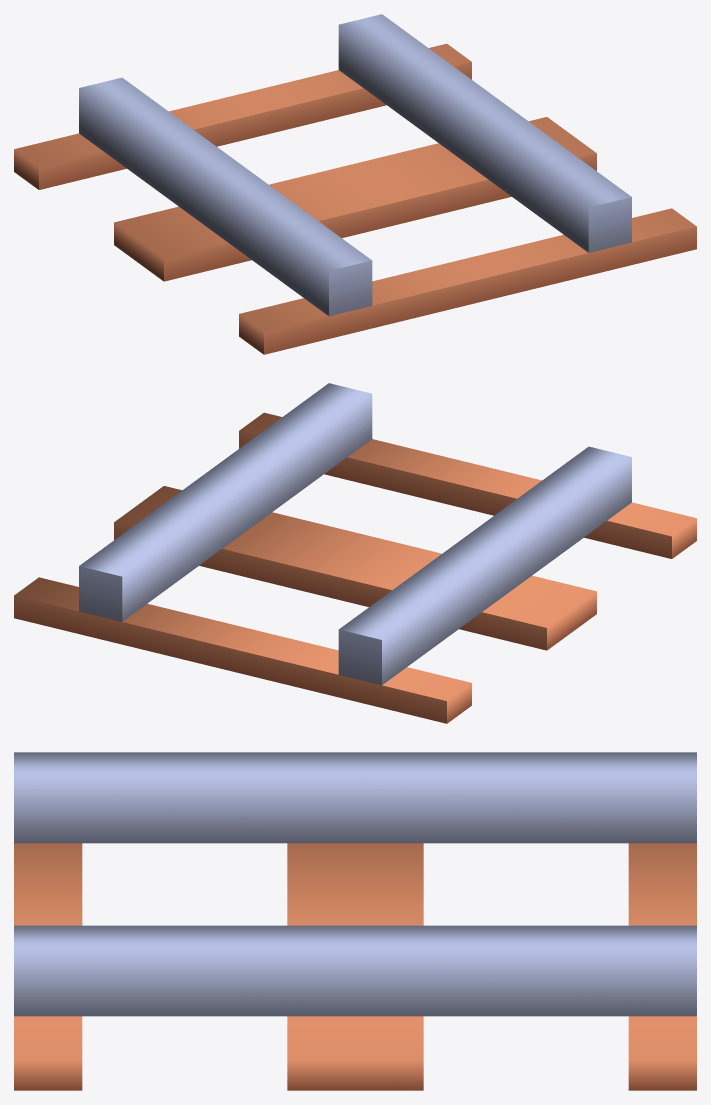
The model's file is kenney-train-track.glb.
3 renders of one model, top to bottom at view 1: azimuth 30°, elevation 25°; view 2: azimuth 150°, elevation 25°; view 3: azimuth 270°, elevation 25°, orthographic. The views are drawn at different scales.
Visible parts, largest first — view 1: track; view 2: track; view 3: track.
Part boxes in pixels (left/top/right/bottom): track: left=14, top=14, right=696, bottom=354; track: left=14, top=383, right=696, bottom=723; track: left=14, top=752, right=696, bottom=1090.
Bounding box in the file's own units: 1 × 0.15 × 1.
1 material, 1 textured.
